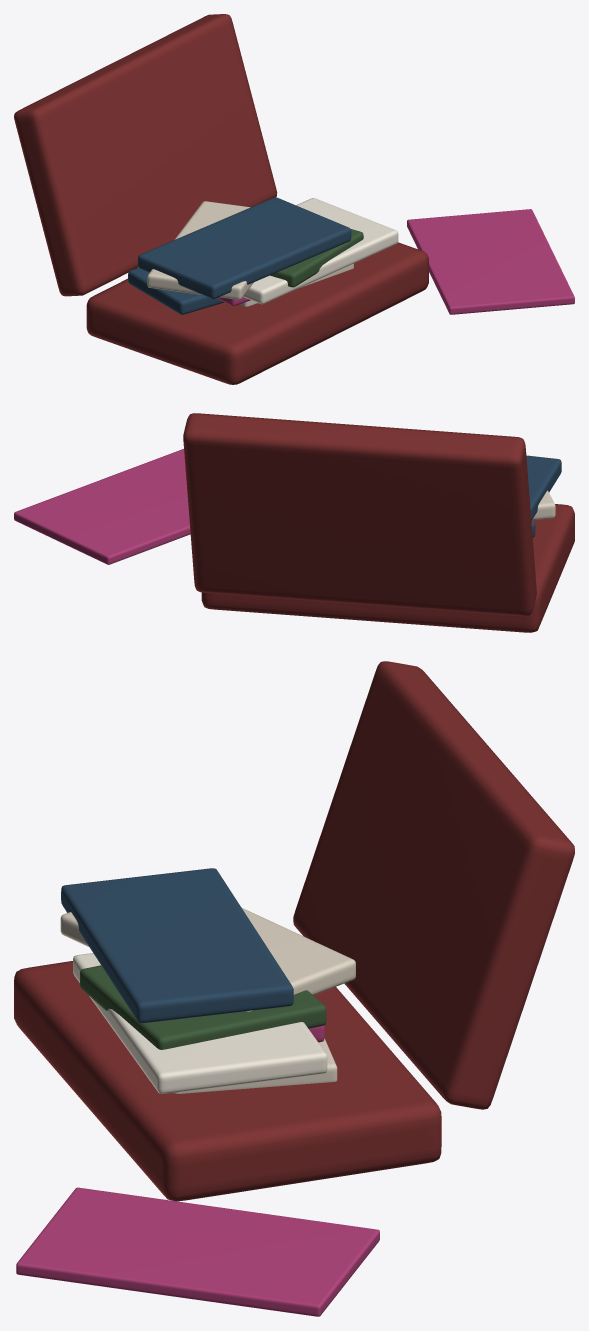
The model's file is ref_V_Mala.glb.
The picture shows the model from 3 angles, top to bottom: view 1: azimuth 30°, elevation 25°; view 2: azimuth 150°, elevation 25°; view 3: azimuth 270°, elevation 25°; orthographic projection. The views are drawn at different scales.
Parts seen in each view (by area): view 1: V_Mala_Tampa, V_Mala_Base, V_Roupa_Chao, V_Roupa_7, V_Roupa_4, V_Roupa_6, V_Roupa_2, V_Roupa_5; view 2: V_Mala_Tampa, V_Roupa_Chao, V_Mala_Base, V_Roupa_7, V_Roupa_6; view 3: V_Mala_Tampa, V_Mala_Base, V_Roupa_Chao, V_Roupa_7, V_Roupa_4, V_Roupa_5, V_Roupa_6, V_Roupa_1.
Boxes of the visible parts, x1,y1,x2,y2 form: V_Mala_Tampa: [14, 14, 277, 296]; V_Mala_Base: [86, 242, 428, 384]; V_Roupa_Chao: [407, 209, 574, 314]; V_Roupa_7: [138, 197, 351, 298]; V_Roupa_4: [243, 198, 398, 304]; V_Roupa_6: [147, 201, 253, 299]; V_Roupa_2: [128, 268, 224, 314]; V_Roupa_5: [270, 229, 363, 287]; V_Mala_Tampa: [183, 413, 536, 616]; V_Roupa_Chao: [14, 449, 190, 564]; V_Mala_Base: [201, 504, 574, 632]; V_Roupa_7: [526, 455, 561, 520]; V_Roupa_6: [532, 490, 555, 520]; V_Mala_Tampa: [293, 661, 574, 1109]; V_Mala_Base: [14, 961, 441, 1201]; V_Roupa_Chao: [16, 1187, 379, 1316]; V_Roupa_7: [61, 868, 293, 1023]; V_Roupa_4: [73, 953, 327, 1093]; V_Roupa_5: [80, 965, 326, 1049]; V_Roupa_6: [60, 908, 355, 1011]; V_Roupa_1: [173, 1038, 337, 1093].
Size of the model in its own units: 1.31 by 0.5304 by 0.8738.
